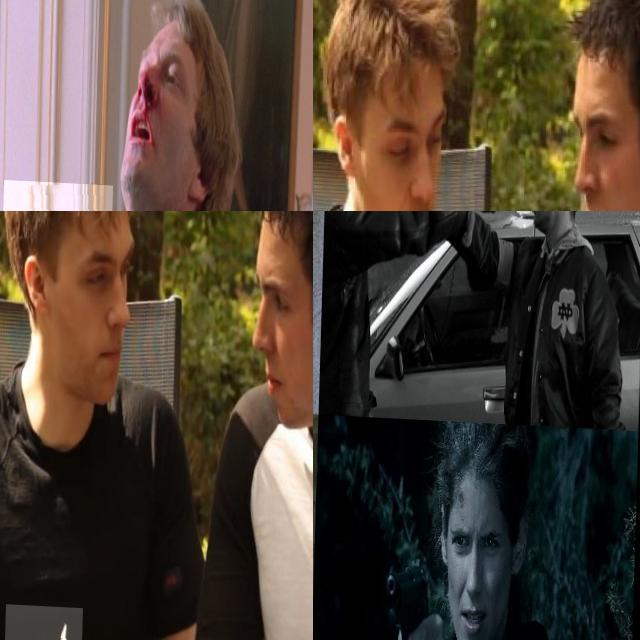-: (5, 603, 86, 640)
gun-knife-thesis - v11 Yolov5 augmented: (384, 544, 444, 640), (376, 211, 439, 251), (313, 221, 335, 334), (481, 211, 535, 241), (313, 568, 331, 640)
